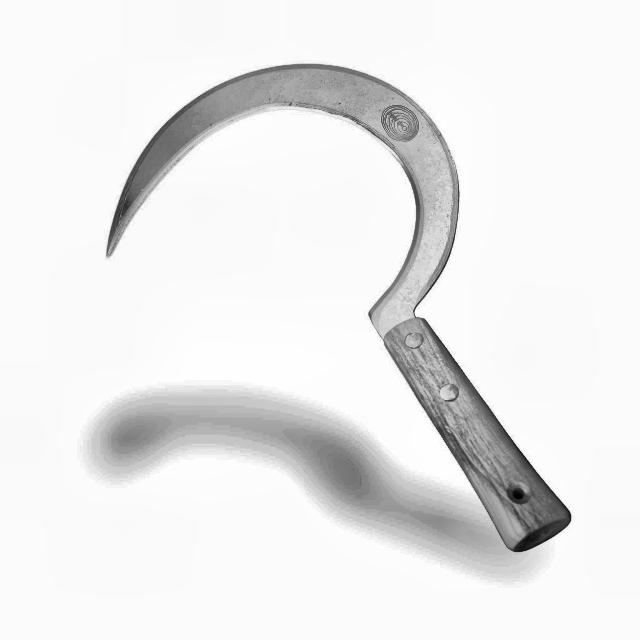celurit: (94, 51, 577, 563)
